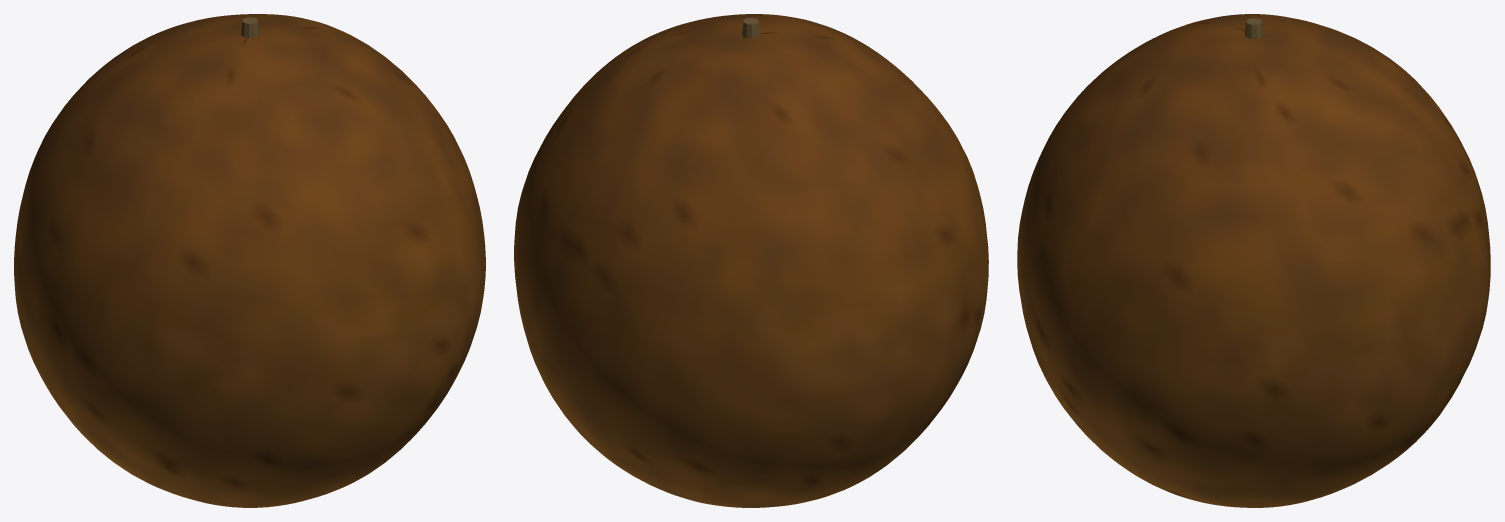
The model's file is longani.glb.
3 renders of one model, left to right at view 1: azimuth 30°, elevation 25°; view 2: azimuth 150°, elevation 25°; view 3: azimuth 270°, elevation 25°, orthographic.
Parts seen in each view (by area): view 1: entier_peau, moitie_B_peau, moitie_A_peau; view 2: entier_peau, moitie_A_peau, moitie_B_peau; view 3: entier_peau, moitie_A_peau, moitie_B_peau.
Part boxes in pixels (x1=…): entier_peau: x1=14, y1=14, x2=485, y2=507; moitie_B_peau: x1=45, y1=29, x2=484, y2=507; moitie_A_peau: x1=14, y1=14, x2=361, y2=450; entier_peau: x1=514, y1=14, x2=988, y2=507; moitie_A_peau: x1=515, y1=29, x2=956, y2=507; moitie_B_peau: x1=640, y1=14, x2=988, y2=453; entier_peau: x1=1017, y1=14, x2=1490, y2=507; moitie_A_peau: x1=1254, y1=14, x2=1488, y2=507; moitie_B_peau: x1=1018, y1=16, x2=1253, y2=507.
Size of the model in its own units: 1.9 by 2.06 by 1.9.
